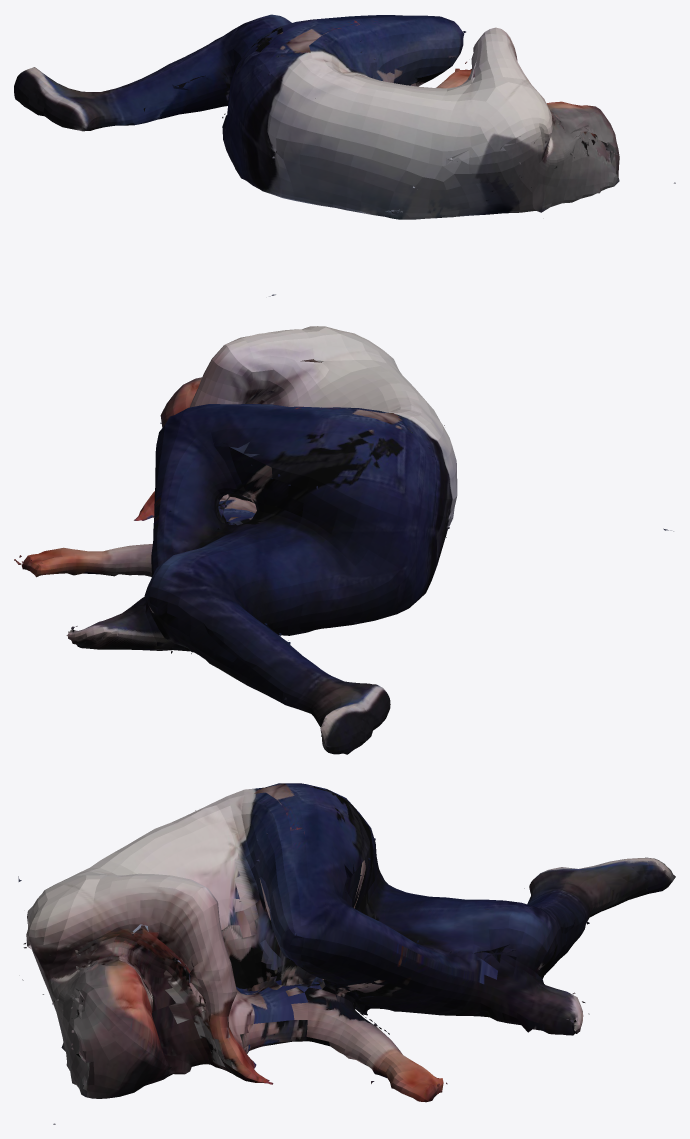
The model's file is AB-death_0000117.obj.
3 views of the same model, one above another, from view 1: azimuth 30°, elevation 25°; view 2: azimuth 150°, elevation 25°; view 3: azimuth 270°, elevation 25° (orthographic). The views are drawn at different scales.
Parts seen in each view (by area): view 1: Retopo_frame_0000117_mesh; view 2: Retopo_frame_0000117_mesh; view 3: Retopo_frame_0000117_mesh.
Boxes of the visible parts, x1=… form: Retopo_frame_0000117_mesh: x1=14, y1=14, x2=675, y2=296; Retopo_frame_0000117_mesh: x1=14, y1=326, x2=673, y2=754; Retopo_frame_0000117_mesh: x1=18, y1=783, x2=675, y2=1124.
Bounding box in the file's own units: 1.1 × 0.3614 × 1.23.
Materials: 1 (1 with a texture image).
